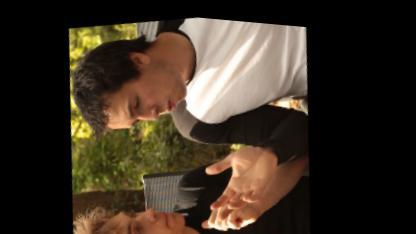knife: (213, 222, 280, 233)
